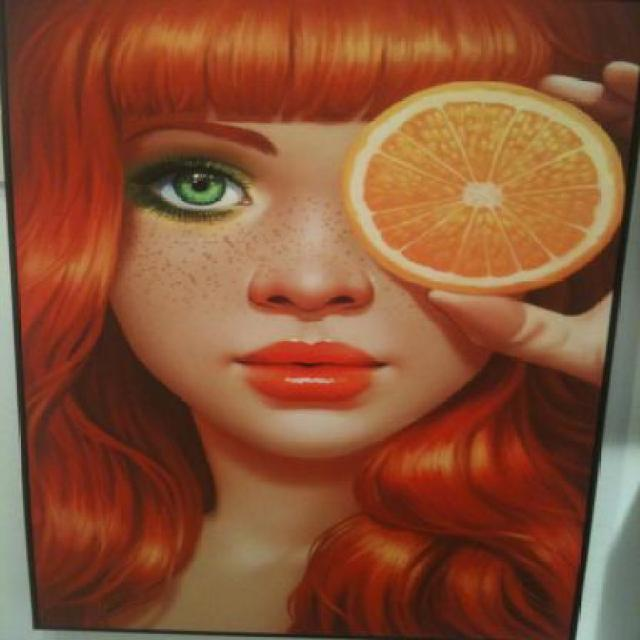Lemon: (342, 80, 626, 297)
